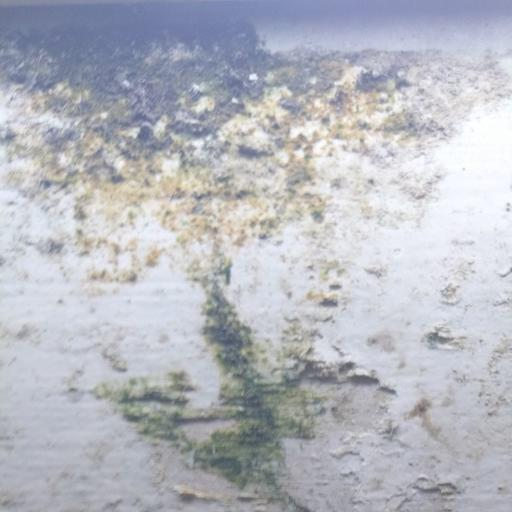algae: (0, 0, 450, 343)
